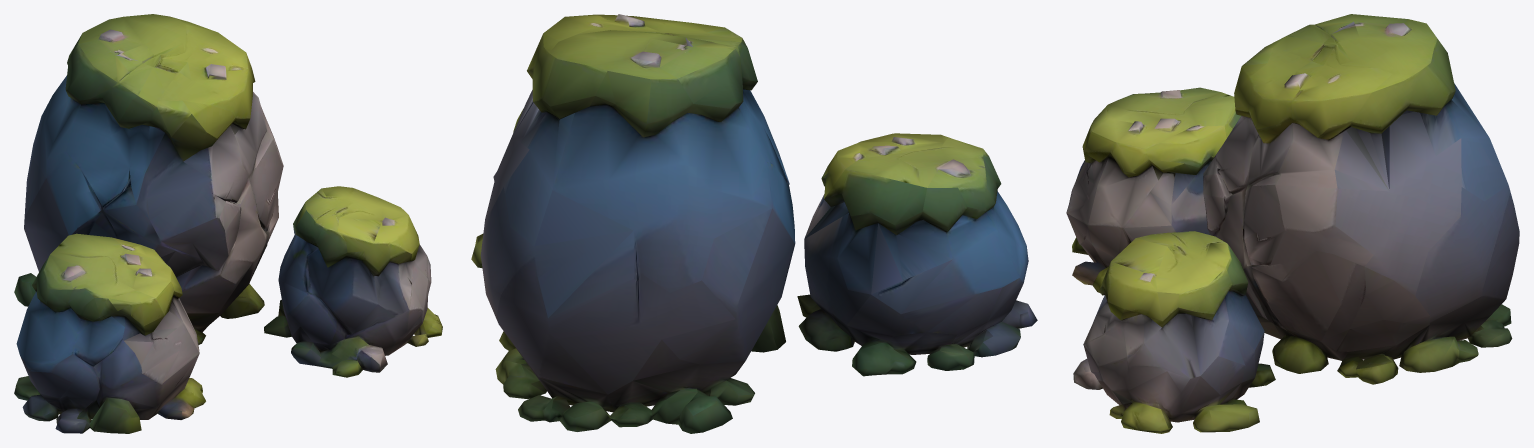
The model's file is rocks.opt.glb.
3 renders of one model, left to right at view 1: azimuth 30°, elevation 25°; view 2: azimuth 150°, elevation 25°; view 3: azimuth 270°, elevation 25°, orthographic. The views are drawn at different scales.
Parts seen in each view (by area): view 1: node_0; view 2: node_0; view 3: node_0.
Part boxes in pixels (left/top/right/bottom): node_0: left=14, top=14, right=442, bottom=433; node_0: left=471, top=14, right=1037, bottom=433; node_0: left=1066, top=14, right=1519, bottom=433.
Bounding box in the file's own units: 0.9139 × 0.5584 × 0.7888.
Materials: 1 (1 with a texture image).
